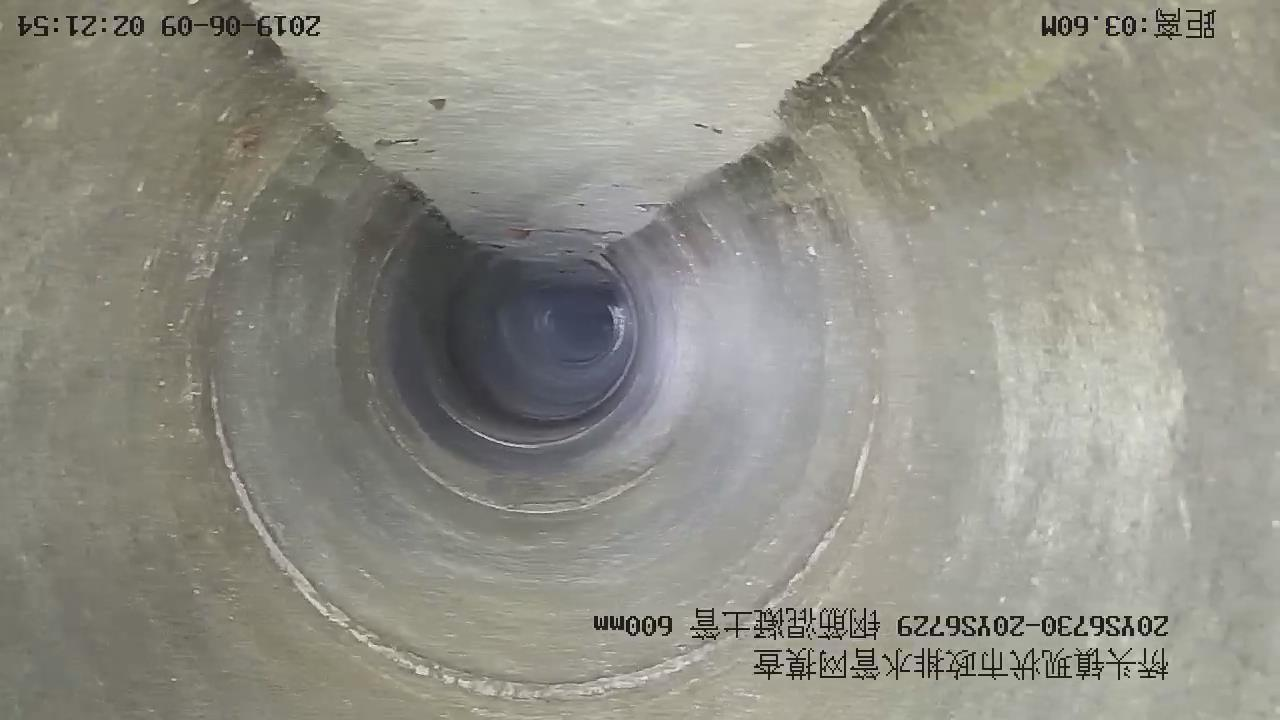CJ: (250, 1, 884, 269)
CKTJ: (188, 332, 876, 701)
